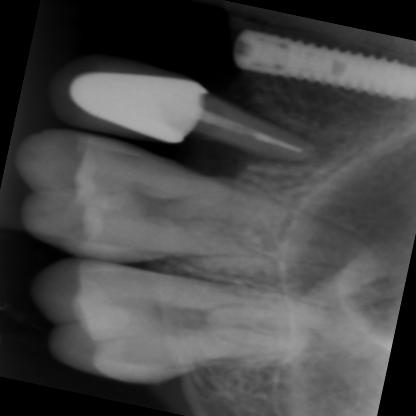ITI: (234, 24, 416, 98)
